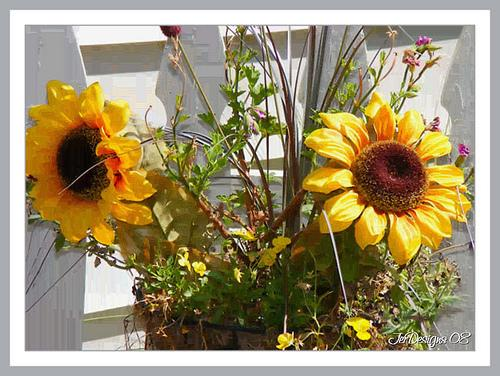sunflower: (306, 90, 471, 265), (26, 75, 153, 252)
